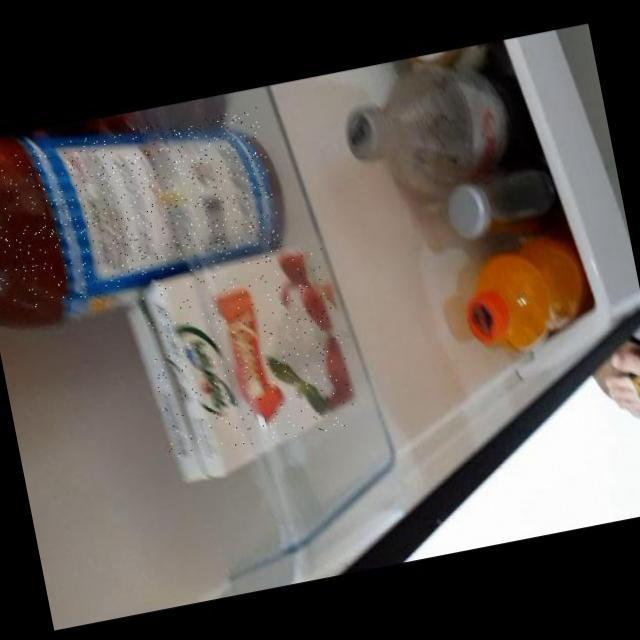cream cheese: (136, 243, 358, 460)
sauce: (0, 103, 285, 314)
